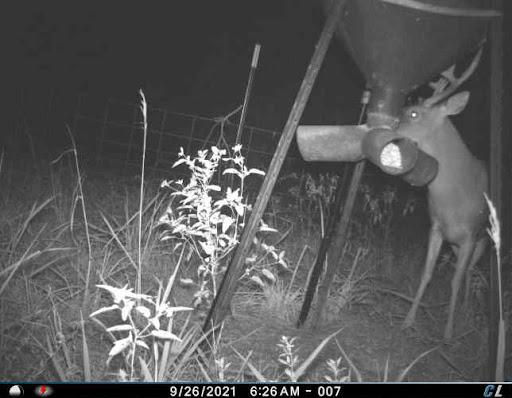Deer: (391, 36, 512, 346)
